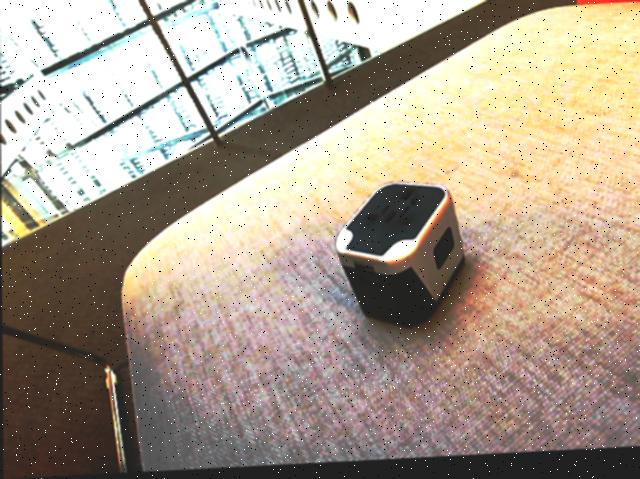adapter: (334, 182, 465, 334)
